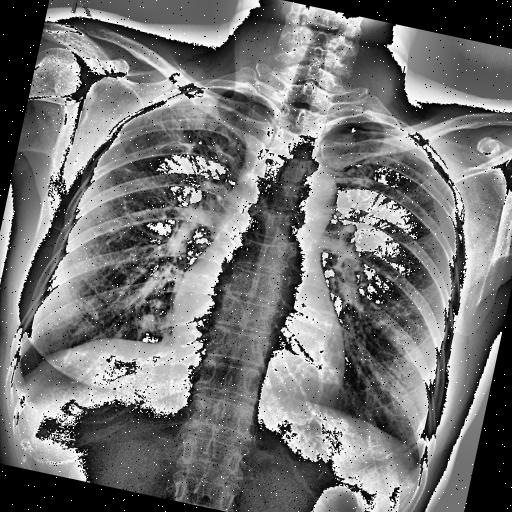10- Pleural effusion: (398, 450, 428, 486), (8, 360, 36, 394)
11- Pleural thickening: (398, 450, 428, 486), (8, 360, 36, 394)
13- Pulmonary fibrosis: (130, 76, 240, 188), (145, 89, 250, 193), (150, 96, 236, 188), (368, 156, 442, 218), (400, 162, 444, 200), (404, 156, 432, 190)
6- Infiltration: (130, 76, 240, 188)
